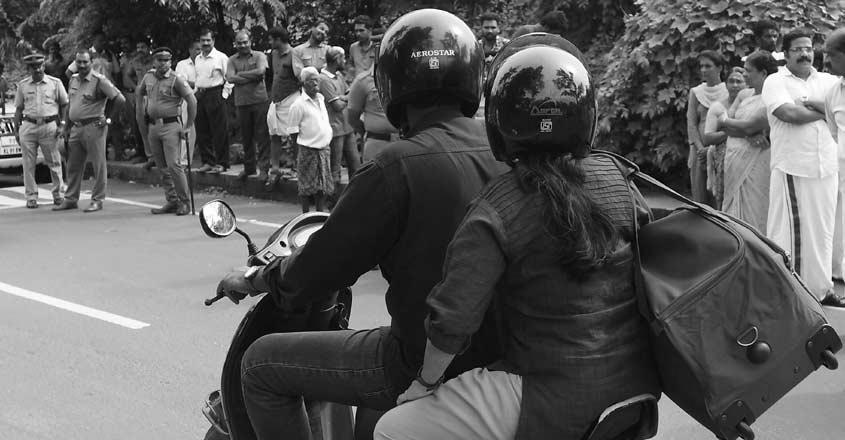Helmet: (485, 34, 597, 169), (369, 9, 482, 134)
